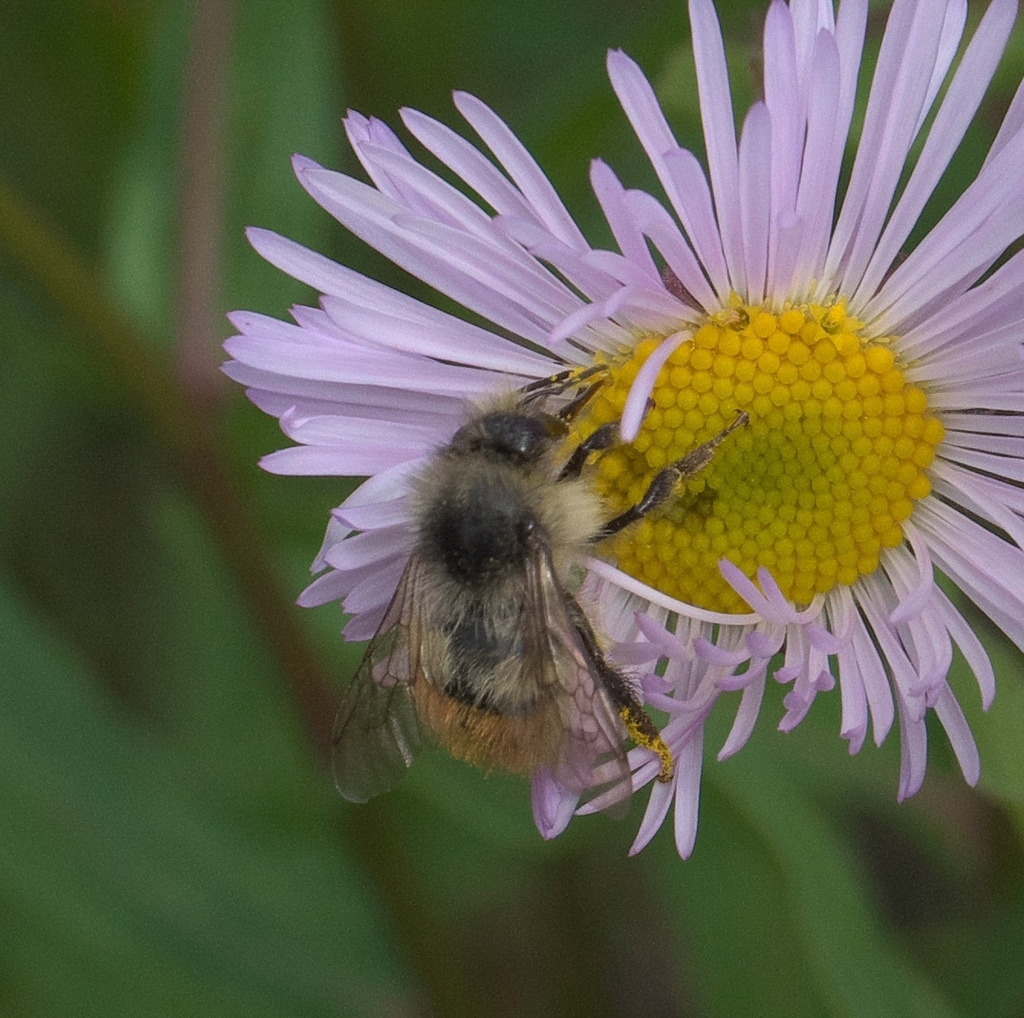bumblebee: (327, 363, 748, 805)
